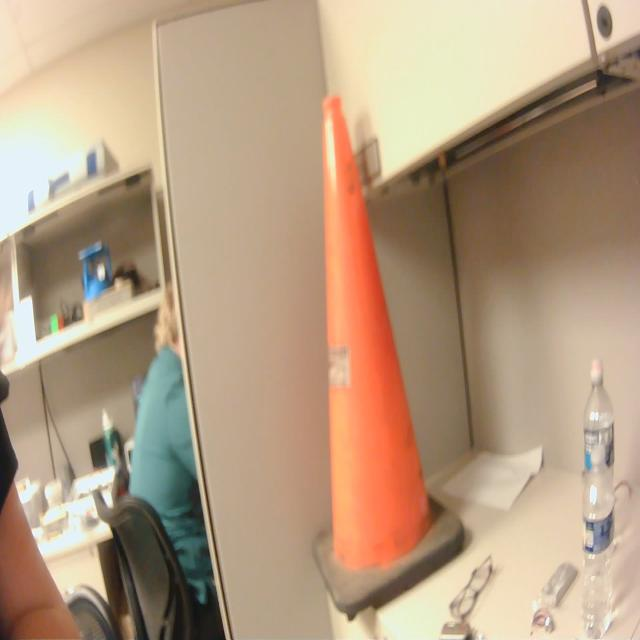traffic cone: (308, 88, 475, 630)
